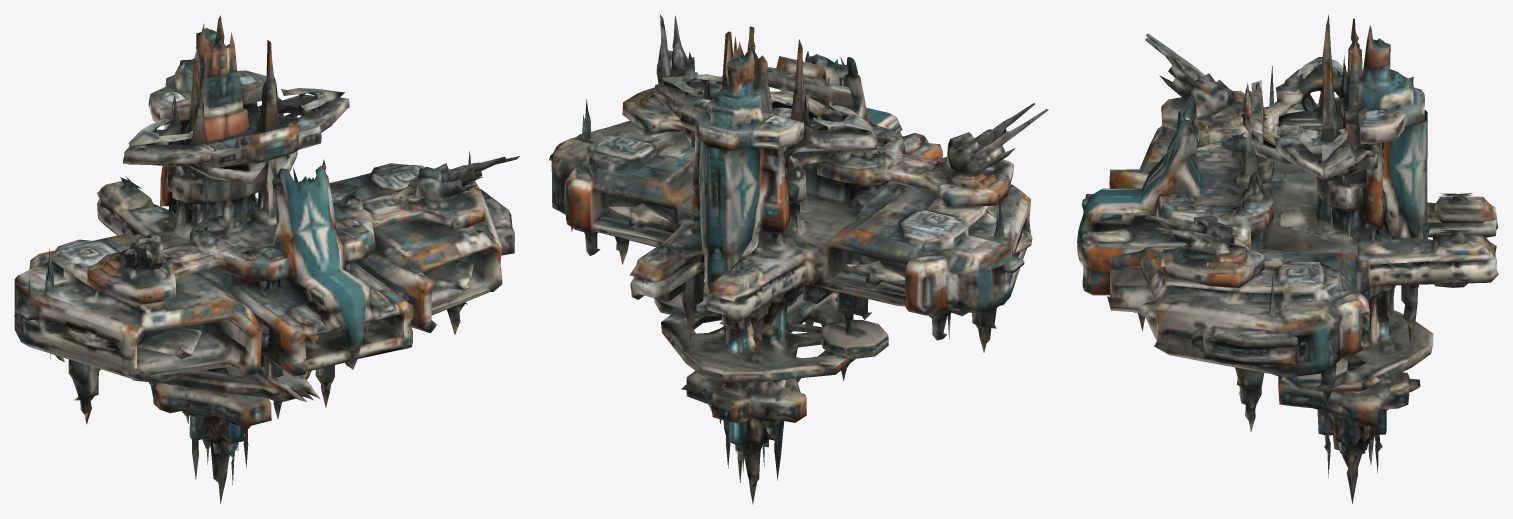
Rendered from HL_Station_Liberator_Military_retopo.glb.
The picture shows the model from 3 angles, left to right: view 1: azimuth 30°, elevation 25°; view 2: azimuth 150°, elevation 25°; view 3: azimuth 270°, elevation 25°; orthographic projection.
Parts seen in each view (by area): view 1: HL_Station_Liberator_Military_retopo; view 2: HL_Station_Liberator_Military_retopo; view 3: HL_Station_Liberator_Military_retopo.
Part boxes in pixels (box(x1,y1,x2,y2)): HL_Station_Liberator_Military_retopo: box(14, 15, 519, 503); HL_Station_Liberator_Military_retopo: box(549, 14, 1048, 504); HL_Station_Liberator_Military_retopo: box(1077, 14, 1498, 503).
Size of the model in its own units: 0.9782 by 0.9694 by 0.7611.
Materials: 1 (1 with a texture image).
